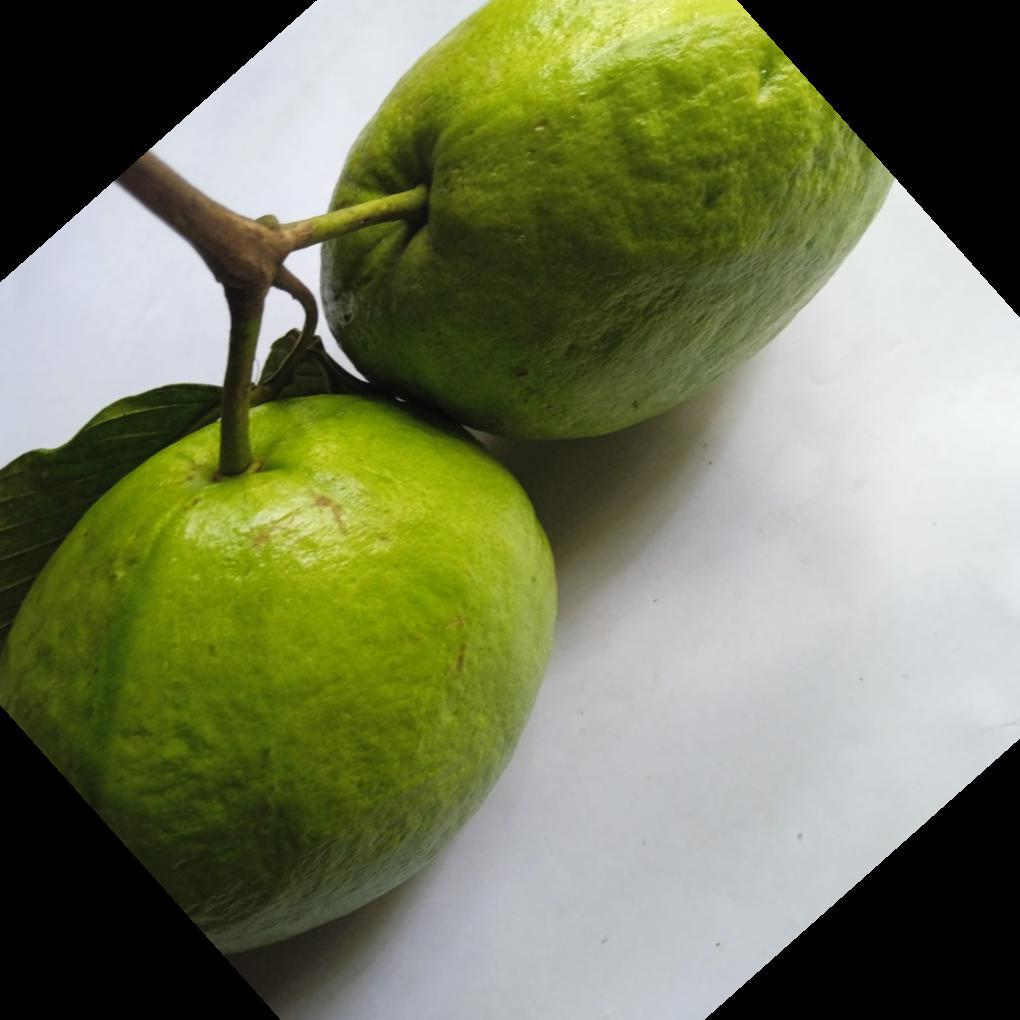FreshGuava: (0, 0, 894, 963)
